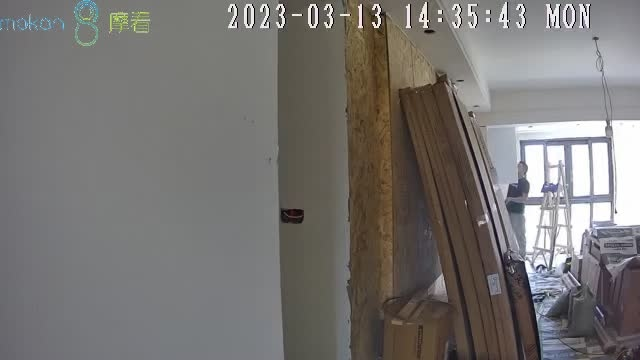people: (503, 160, 530, 255)
window: (521, 139, 613, 253)
